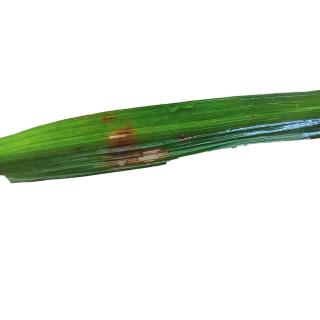Hawar-Daun: (107, 120, 142, 169), (137, 139, 170, 166), (178, 125, 196, 146), (103, 108, 114, 127)
